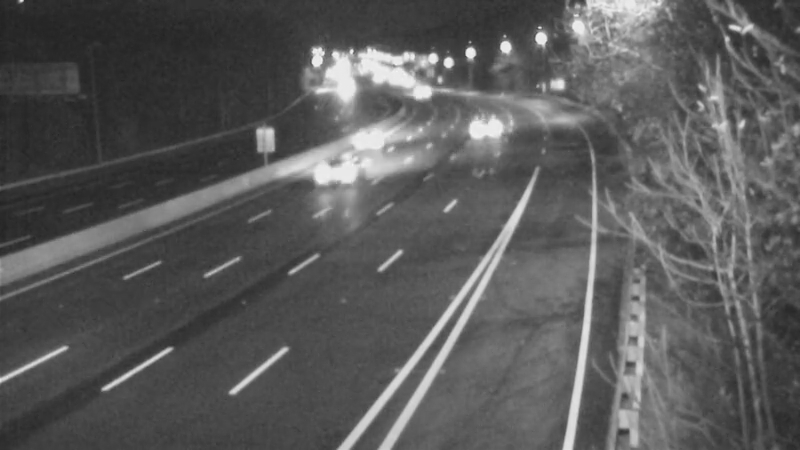vehicle: (299, 131, 379, 211), (399, 63, 449, 113), (464, 102, 514, 152), (346, 113, 396, 163)
